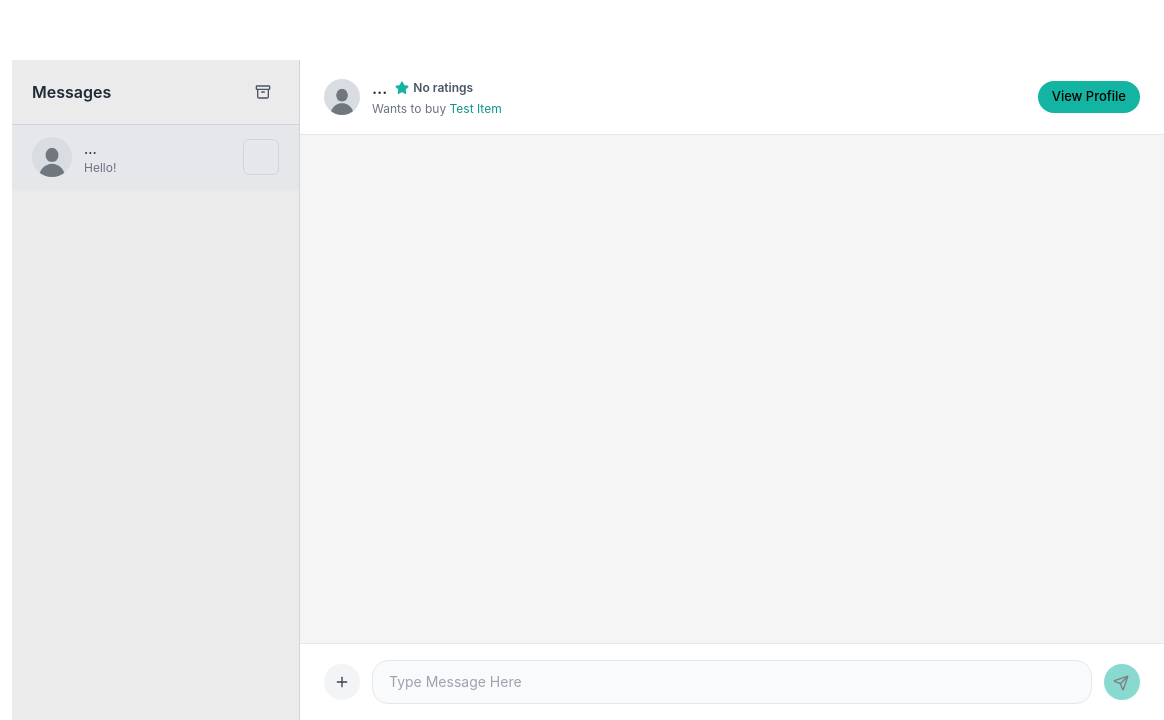
Test: ChatLayout › closes the confirmation prompt when No is clicked
The width and height of the screenshot is (1164, 720).
Click the button titled "Actions" at (342, 682), box [324,664,360,700]
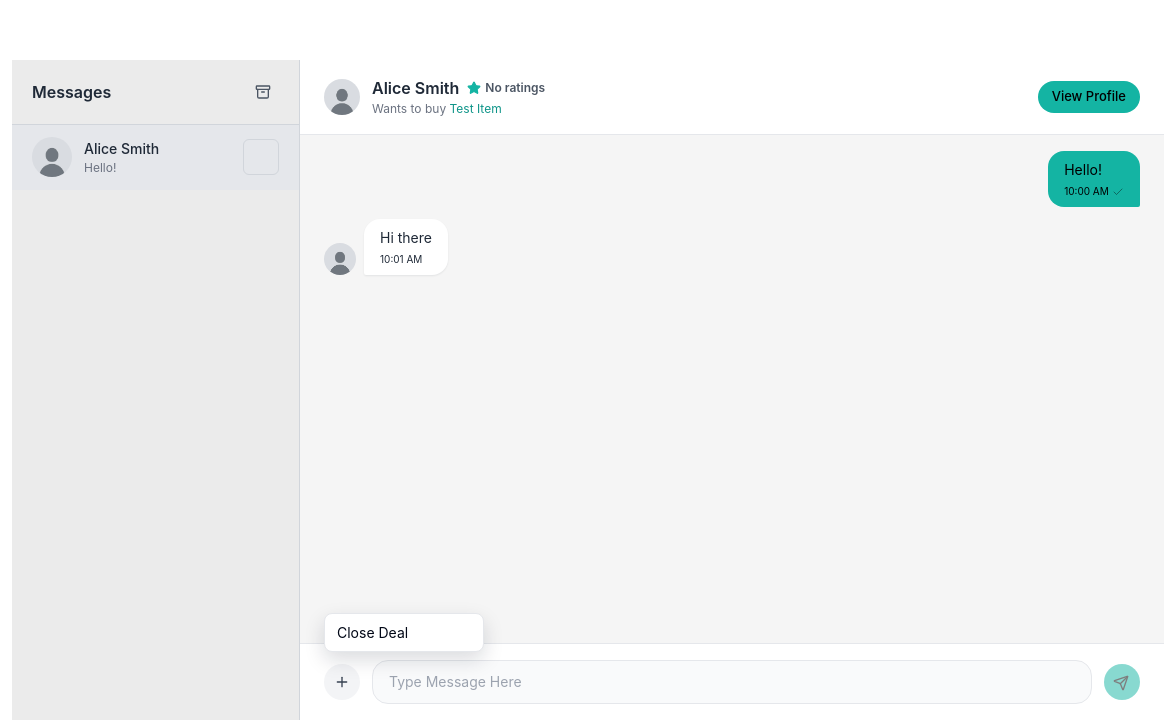
Expected: the button "Close Deal" is shown
Click the button "Close Deal" at (404, 632), box [325,614,483,651]
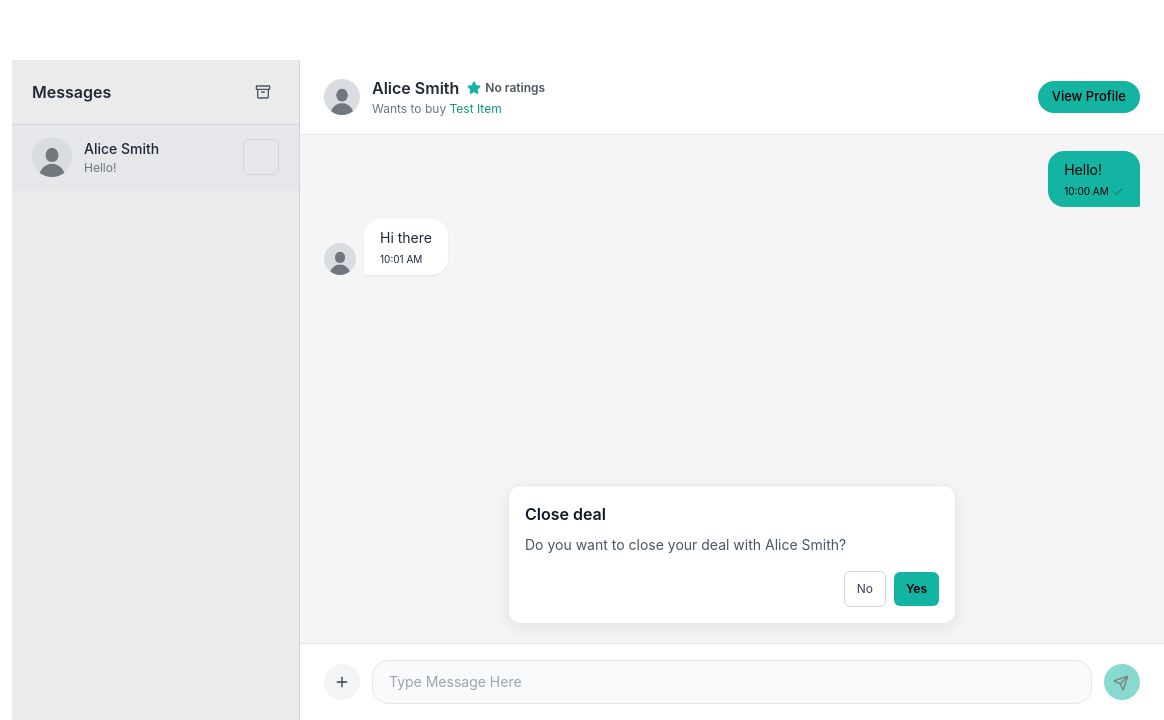
Expected: the button "Yes" is shown, [894,572,939,606]
Click the button "No" at (865, 589), box [844,571,886,607]
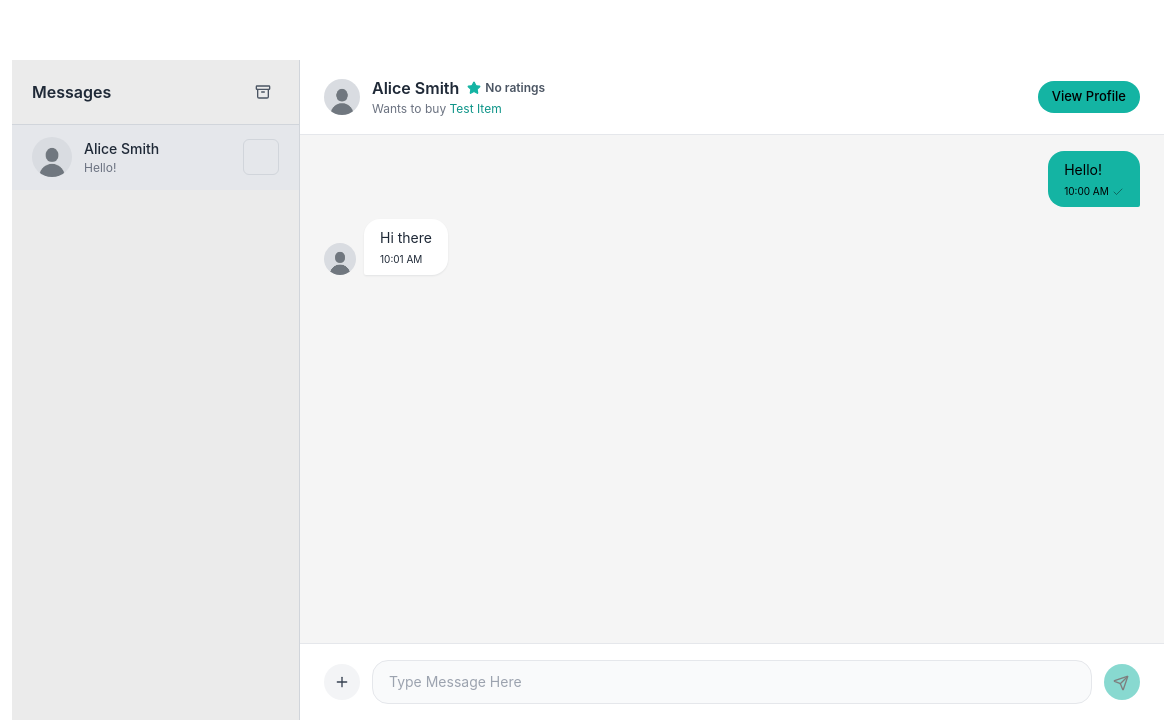
Expected: the heading "Close deal" is gone
